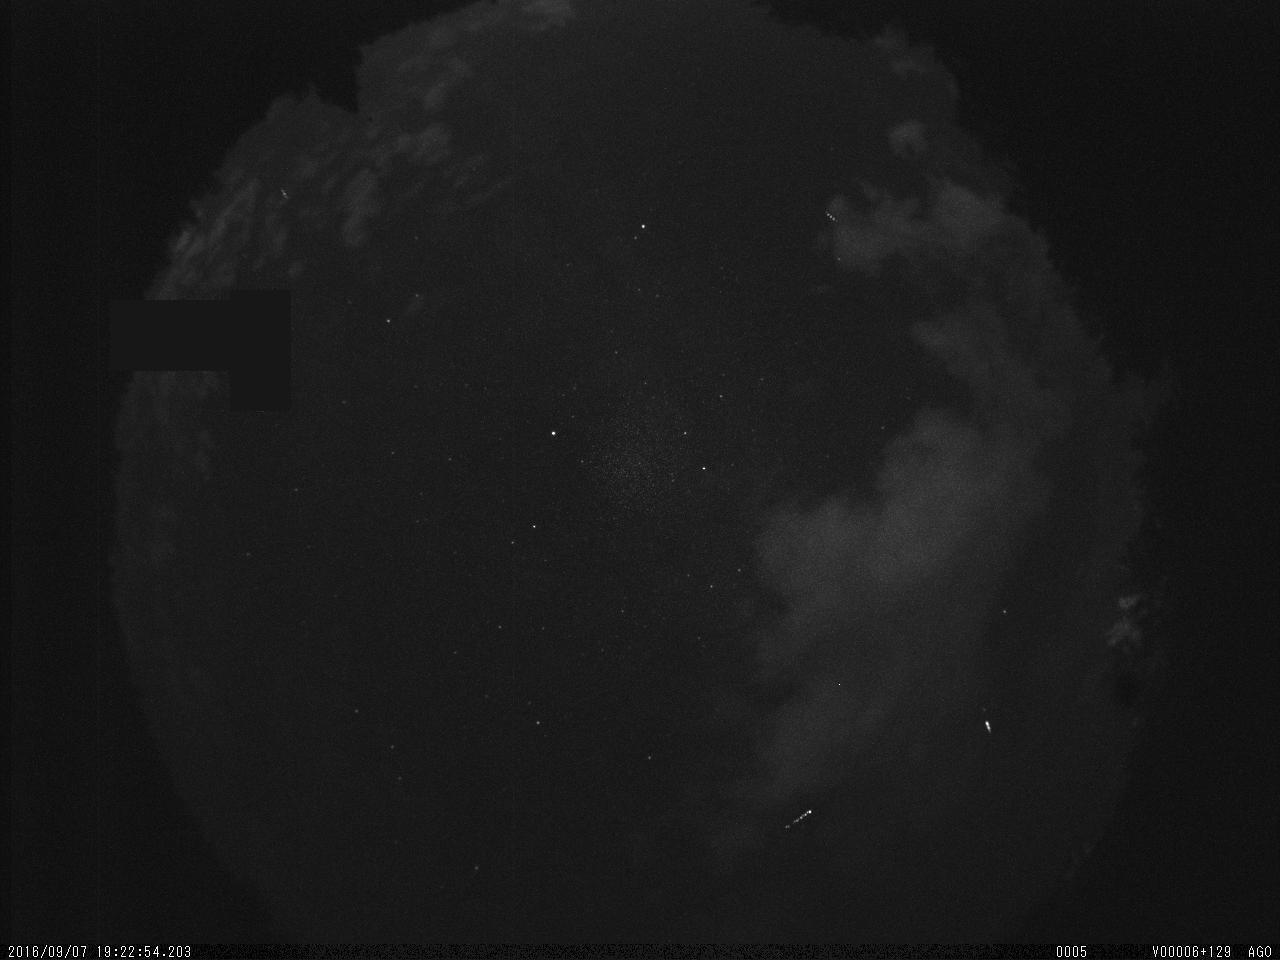meteor: (971, 715, 1003, 743)
